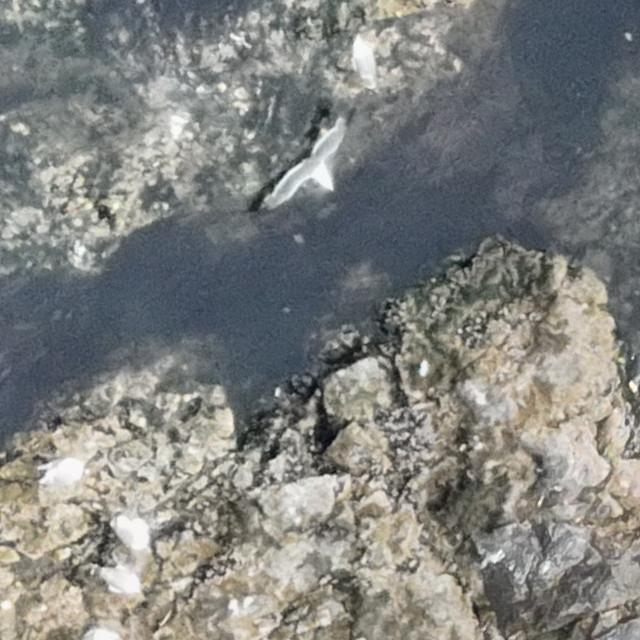F: (274, 121, 350, 199)
umineko: (352, 34, 379, 94), (93, 562, 139, 594), (112, 511, 148, 551), (42, 456, 86, 486)
